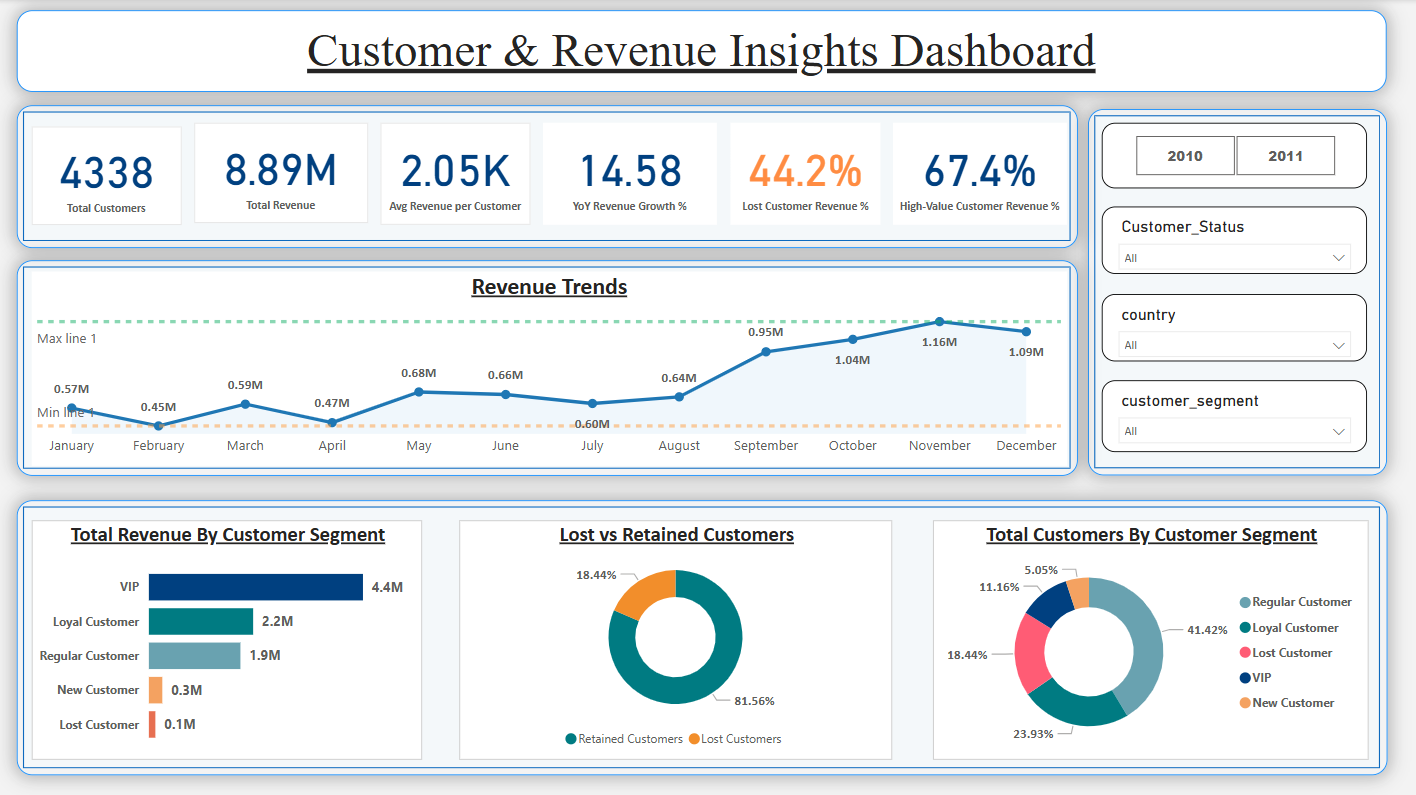

This screenshot's page, from the dashboard's own definition file:
{"tool":"powerbi","page":{"name":"Customer & Revenue Insights","canvas":[1280,720],"ordinal":0},"visuals":[{"type":"shape","box":[982.5,99.6,269.8,330.4],"z":0},{"type":"shape","box":[16.8,451.8,1235.7,248.1],"z":1000},{"type":"shape","box":[16.7,235.6,956.7,194.4],"z":2000},{"type":"card","fields":{"Values":["Key Measures.Total Customers"]},"box":[16.9,99.2,142,118.3],"z":4000},{"type":"card","fields":{"Values":["Key Measures.Total Revenue"]},"box":[177,99.2,137.5,118.3],"z":5000},{"type":"slicer","fields":{"Values":["DateTable.Year"]},"box":[995.5,111.1,239.5,59.2],"z":6000},{"type":"slicer","fields":{"Values":["public rfm_scores.customer_segment"]},"box":[995.5,343.4,239.5,64.9],"z":7000},{"type":"lineChart","title":"Revenue Trends","fields":{"Y":["Key Measures.Total Revenue"],"Category":["DateTable.Month Name"]},"box":[30,245.6,933.3,175.6],"z":8000},{"type":"slicer","fields":{"Values":["public customer_transactions.country"]},"box":[995.5,265.5,239.5,60.6],"z":9000},{"type":"barChart","title":"Total Revenue By Customer Segment","fields":{"Category":["public rfm_scores.customer_segment"],"Y":["Key Measures.Total Revenue"]},"box":[30,469.8,352.4,215.7],"z":10000},{"type":"card","fields":{"Values":["Key Measures.YoY Revenue Growth %"]},"box":[491.4,99.2,156.7,118.3],"z":11000},{"type":"card","fields":{"Values":["Key Measures.Avg Revenue per Customer"]},"box":[330.2,99.2,149.9,118.3],"z":12000},{"type":"donutChart","title":"Lost vs Retained Customers ","fields":{"Category":["Customer Category.Customer Category"],"Y":["Key Measures.Customer Count"]},"box":[415.9,469.8,390.7,215.7],"z":13000},{"type":"donutChart","title":"Total Customers By Customer Segment","fields":{"Category":["public rfm_scores.customer_segment"],"Y":["Key Measures.Total Customers"]},"box":[842.5,469.8,393.1,215.7],"z":14000},{"type":"textbox","box":[17.3,10.1,1235,73.6],"z":15000},{"type":"card","fields":{"Values":["Key Measures.Lost Customer Revenue %"]},"box":[660.5,99.2,135.3,118.3],"z":16000},{"type":"card","fields":{"Values":["Key Measures.High-Value Customer Revenue %"]},"box":[807,99.2,156.7,118.3],"z":17000},{"type":"slicer","fields":{"Values":["public rfm_scores.Customer_Status"]},"box":[995.5,187.6,239.5,60.6],"z":18000}]}

Visuals, with their boxes in screenshot pixels (x1, y1, x2, y2), scaled from the page's 1280x720 canvas onto the 1416x795 screenshot:
shape: {"left": 1087, "top": 110, "right": 1385, "bottom": 475}
shape: {"left": 19, "top": 499, "right": 1386, "bottom": 773}
shape: {"left": 18, "top": 260, "right": 1077, "bottom": 475}
card - Key Measures.Total Customers: {"left": 19, "top": 110, "right": 176, "bottom": 240}
card - Key Measures.Total Revenue: {"left": 196, "top": 110, "right": 348, "bottom": 240}
slicer - DateTable.Year: {"left": 1101, "top": 123, "right": 1366, "bottom": 188}
slicer - public rfm_scores.customer_segment: {"left": 1101, "top": 379, "right": 1366, "bottom": 451}
"Revenue Trends" lineChart: {"left": 33, "top": 271, "right": 1066, "bottom": 465}
slicer - public customer_transactions.country: {"left": 1101, "top": 293, "right": 1366, "bottom": 360}
"Total Revenue By Customer Segment" barChart: {"left": 33, "top": 519, "right": 423, "bottom": 757}
card - Key Measures.YoY Revenue Growth %: {"left": 544, "top": 110, "right": 717, "bottom": 240}
card - Key Measures.Avg Revenue per Customer: {"left": 365, "top": 110, "right": 531, "bottom": 240}
"Lost vs Retained Customers " donutChart: {"left": 460, "top": 519, "right": 892, "bottom": 757}
"Total Customers By Customer Segment" donutChart: {"left": 932, "top": 519, "right": 1367, "bottom": 757}
textbox: {"left": 19, "top": 11, "right": 1385, "bottom": 92}
card - Key Measures.Lost Customer Revenue %: {"left": 731, "top": 110, "right": 880, "bottom": 240}
card - Key Measures.High-Value Customer Revenue %: {"left": 893, "top": 110, "right": 1066, "bottom": 240}
slicer - public rfm_scores.Customer_Status: {"left": 1101, "top": 207, "right": 1366, "bottom": 274}
